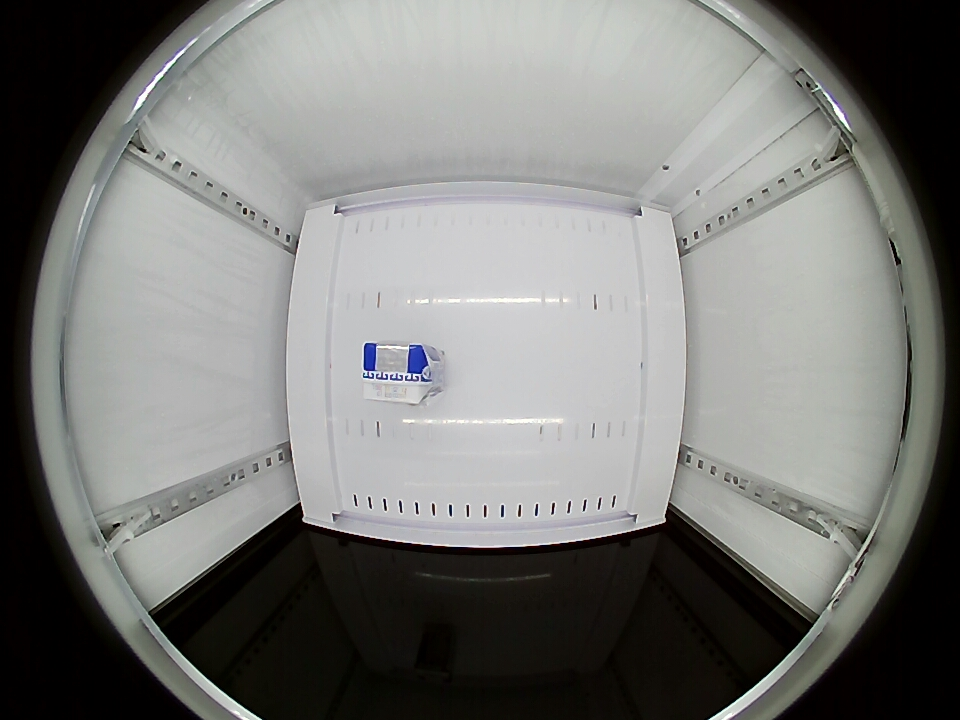anmuxi: (361, 342, 439, 406)
